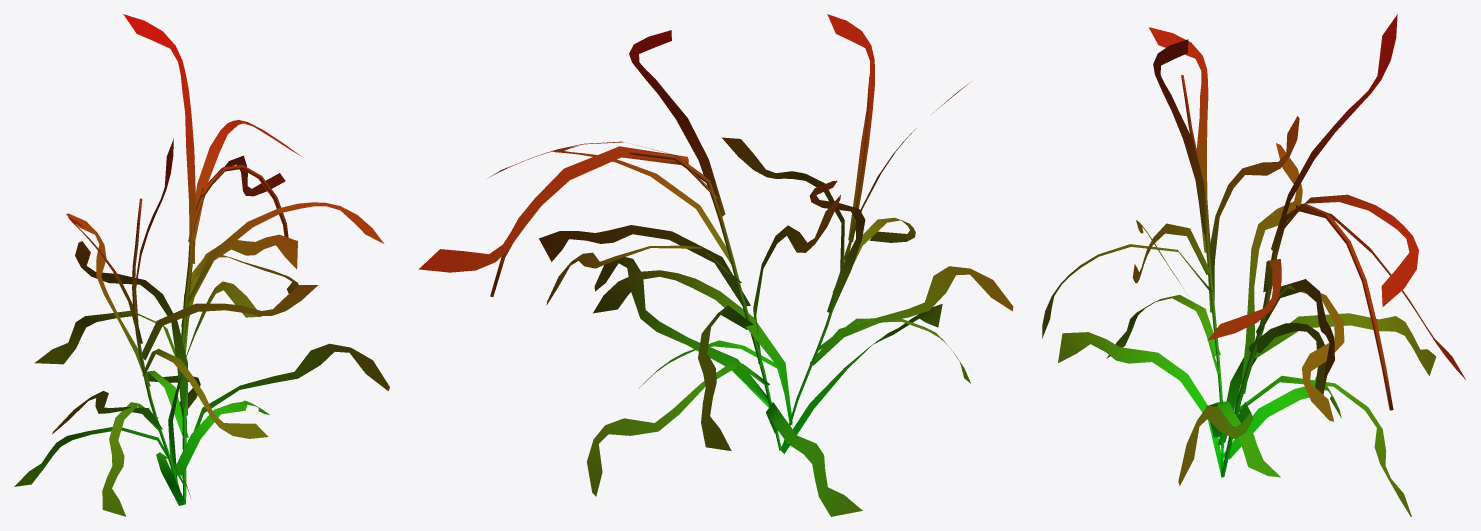
Rendered from tkbidaxia_Var8_LOD0.fbx.
3 renders of one model, left to right at view 1: azimuth 30°, elevation 25°; view 2: azimuth 150°, elevation 25°; view 3: azimuth 270°, elevation 25°, orthographic. The views are drawn at different scales.
Visible parts, largest first — view 1: _cf02_Var8_LOD0; view 2: _cf02_Var8_LOD0; view 3: _cf02_Var8_LOD0.
Boxes of the visible parts, bbox=[...] form: _cf02_Var8_LOD0: bbox=[14, 14, 389, 516]; _cf02_Var8_LOD0: bbox=[419, 14, 1013, 516]; _cf02_Var8_LOD0: bbox=[1042, 14, 1465, 516].
Size of the model in its own units: 29.86 by 32.12 by 26.06.
